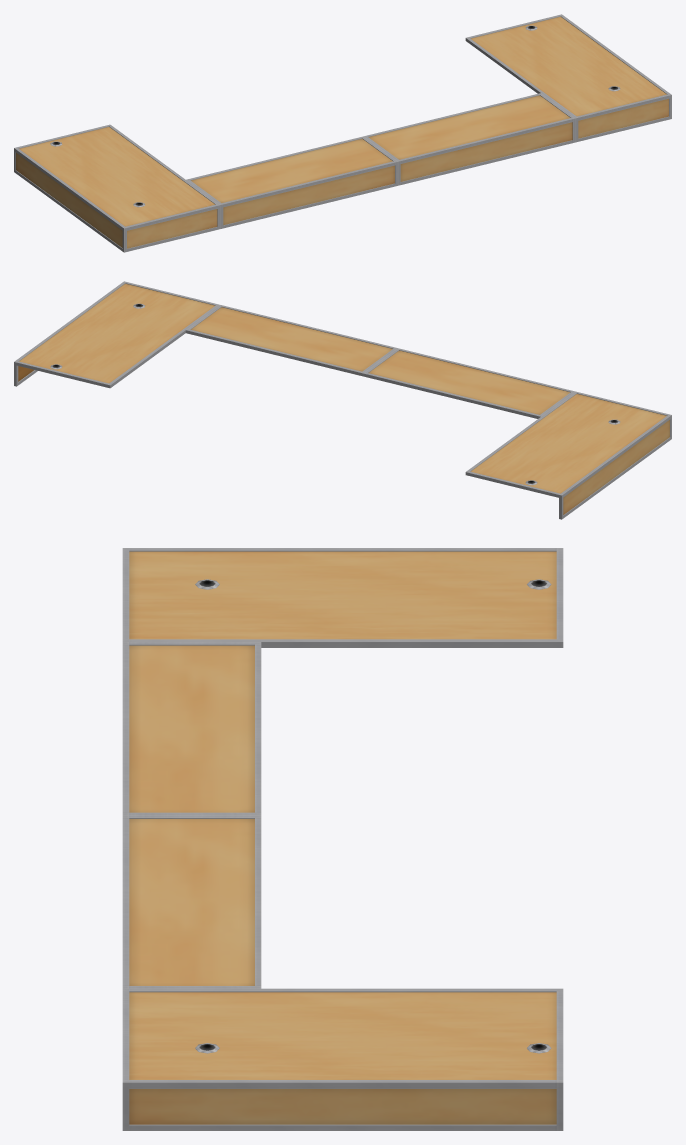
Rendered from jsf_4P_s03_c05_t04_DX.fbx.
The picture shows the model from 3 angles, top to bottom: view 1: azimuth 30°, elevation 25°; view 2: azimuth 150°, elevation 25°; view 3: azimuth 270°, elevation 25°; orthographic projection. The views are drawn at different scales.
Parts seen in each view (by area): view 1: jsf_4P_s03_c05_t04_DX; view 2: jsf_4P_s03_c05_t04_DX; view 3: jsf_4P_s03_c05_t04_DX.
Boxes of the visible parts, box(x1,y1,x2,y2) form: jsf_4P_s03_c05_t04_DX: box(14, 14, 671, 252); jsf_4P_s03_c05_t04_DX: box(14, 281, 671, 519); jsf_4P_s03_c05_t04_DX: box(122, 548, 563, 1130).
Bounding box in the file's own units: 298 × 12.99 × 104.
